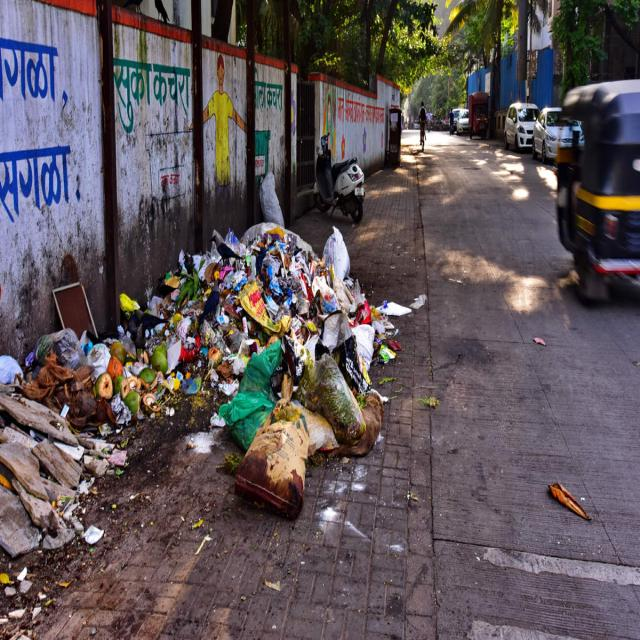garbage: (0, 185, 448, 632)
